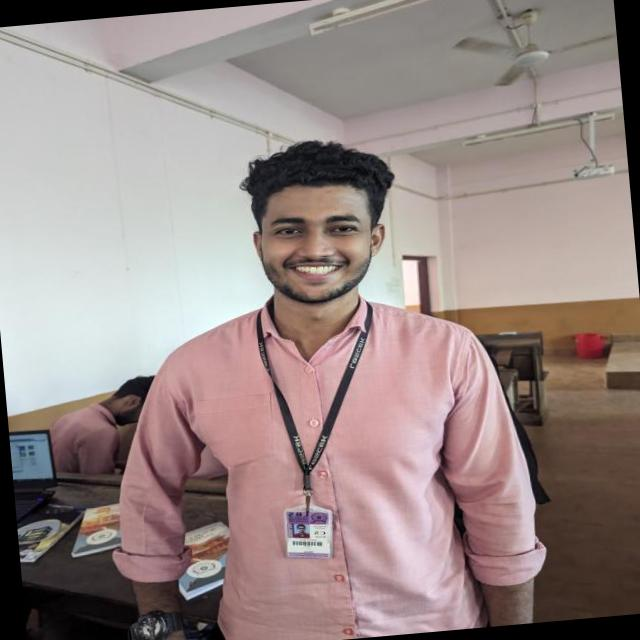id_card: (244, 297, 388, 564)
